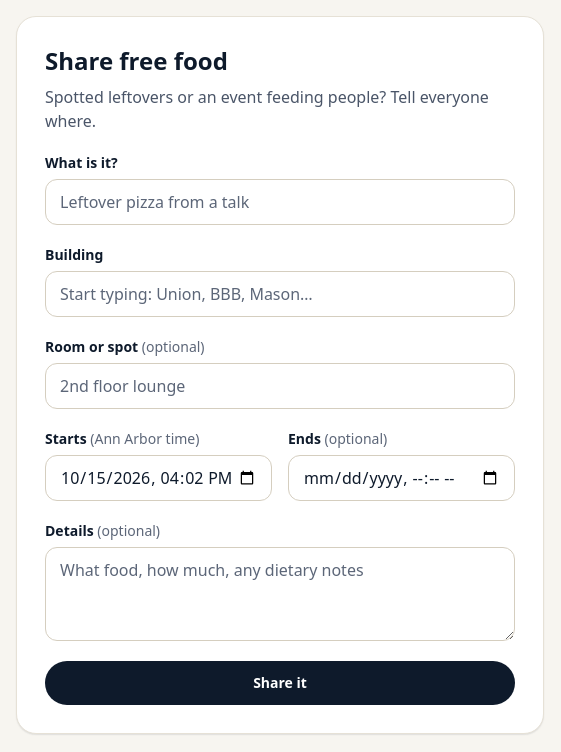
Test: SubmitPage › links to the live event when a trusted user’s tip publishes at once
This screenshot has width=561, height=752.
In the field labelled "What is it?": (280, 202) [45,179,515,225], type "Leftover pizza"
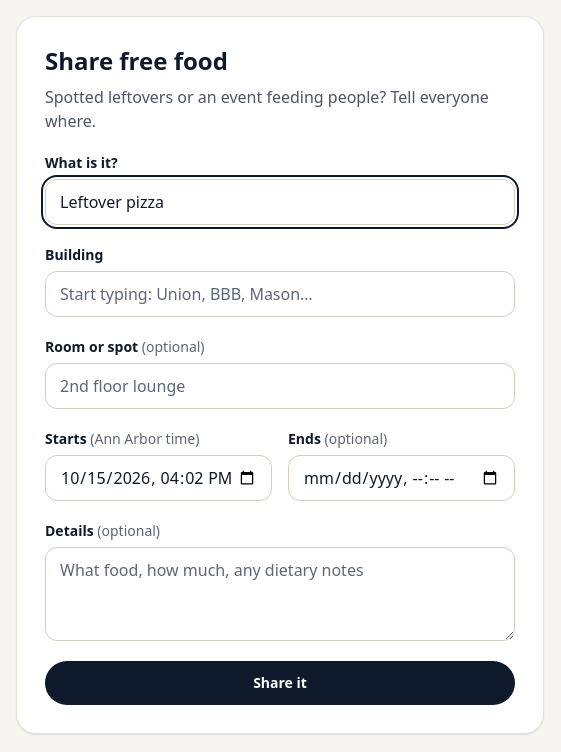
In the dropdown labelled "Building": (280, 294) [45,271,515,317], type "dude"
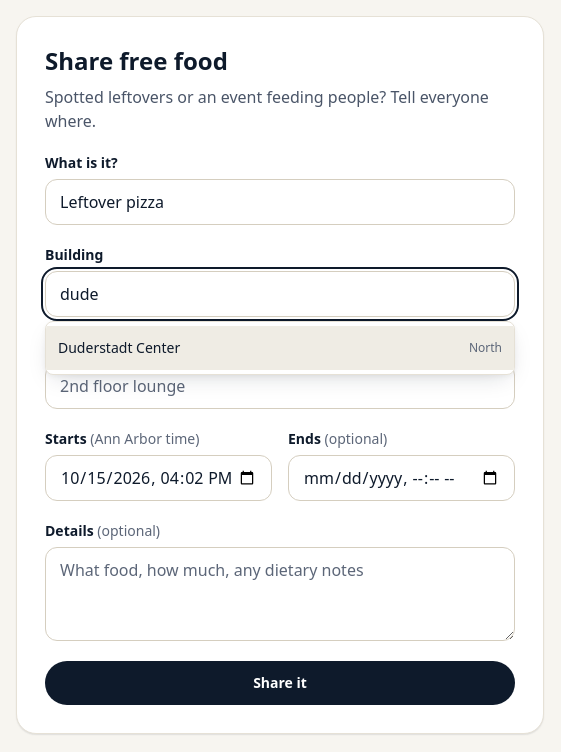
Click the option "Duderstadt Center North": (119, 348) [46,326,514,370]
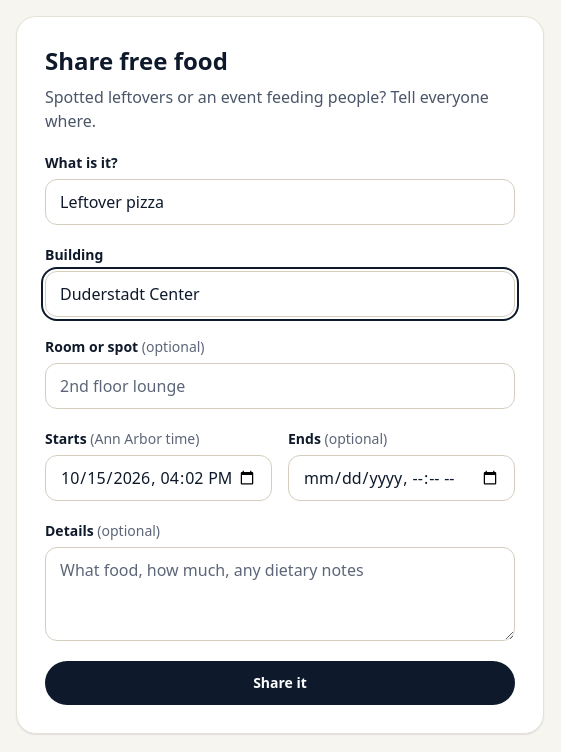
In the field labelled "Room or spot (optional)": (280, 386) [45,363,515,409], type "Atrium"
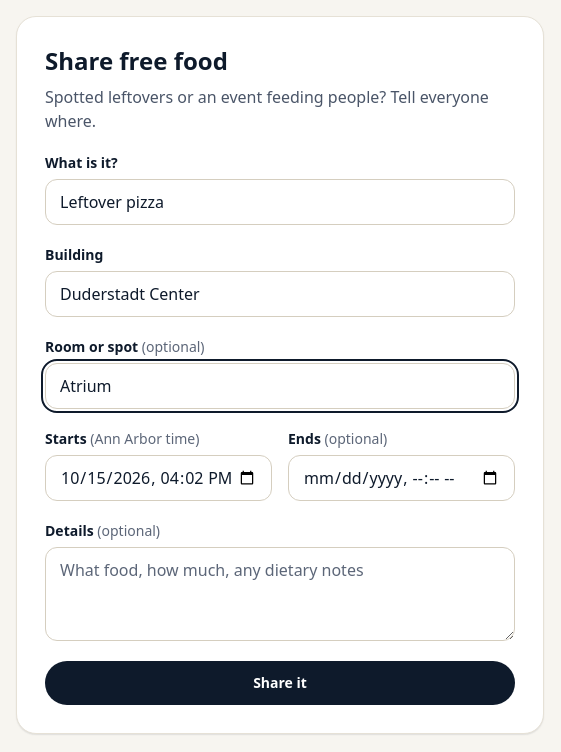
Click the button "Share it": (280, 683) [45,661,515,705]
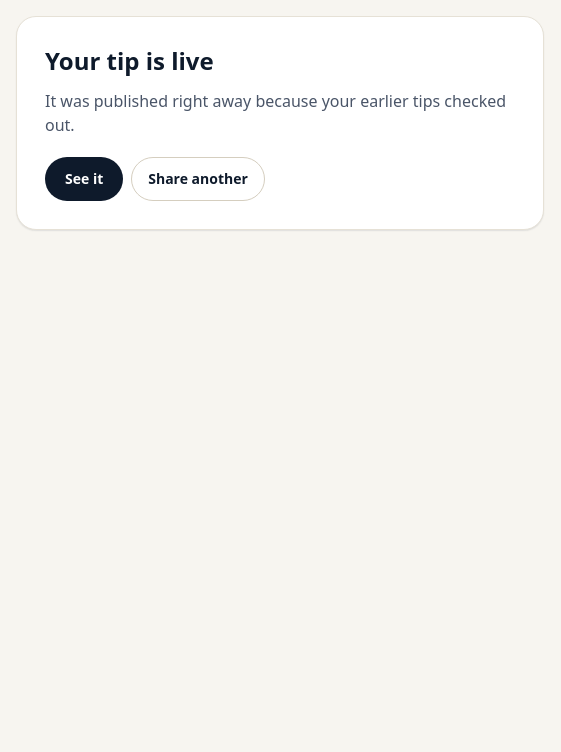
Expected: the heading "Your tip is live" is shown, [45,44,214,77]
